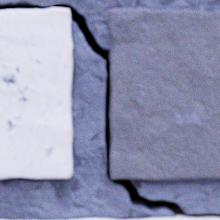brick: (109, 10, 219, 180), (0, 9, 72, 178), (130, 218, 219, 219), (74, 218, 114, 219)
crack: (0, 1, 219, 218)
